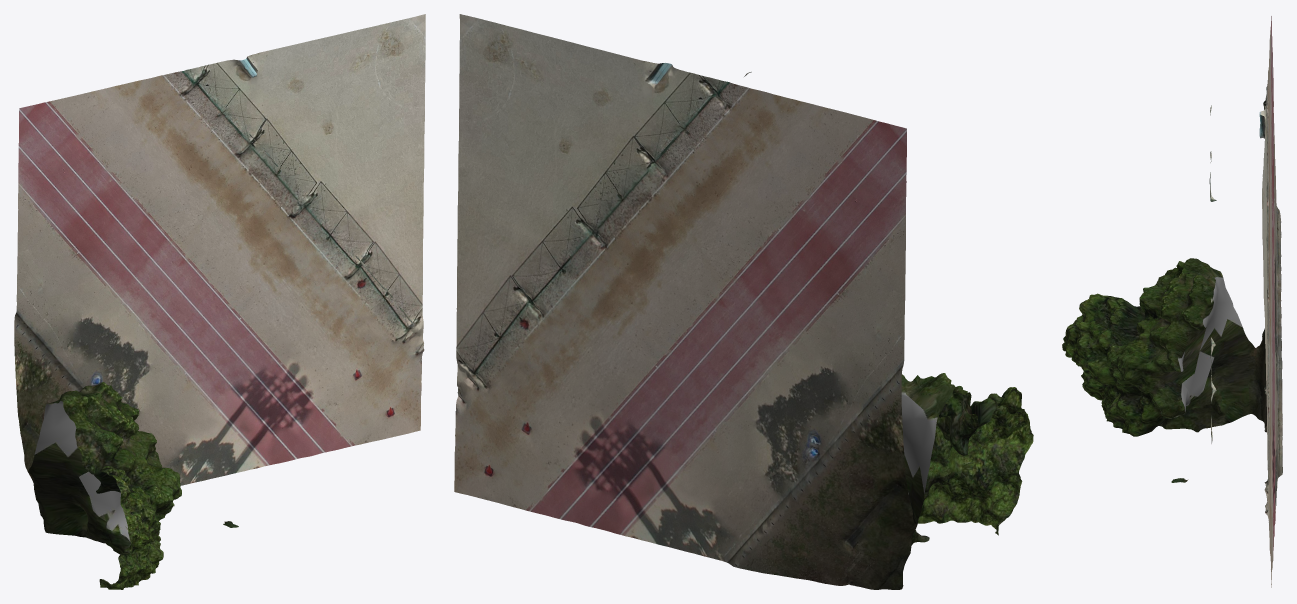
File: Tile_+018_+011.fbx
3 renders of one model, left to right at view 1: azimuth 30°, elevation 25°; view 2: azimuth 150°, elevation 25°; view 3: azimuth 270°, elevation 25°, orthographic. The views are drawn at different scales.
Visible parts, largest first — view 1: DefaultName; view 2: DefaultName; view 3: DefaultName.
Part boxes in pixels (box(x1,y1,x2,y2)): DefaultName: box(14, 14, 425, 589); DefaultName: box(454, 14, 1033, 589); DefaultName: box(1062, 16, 1282, 587).
Bounding box in the file's own units: 22.54 × 22.54 × 11.49.
